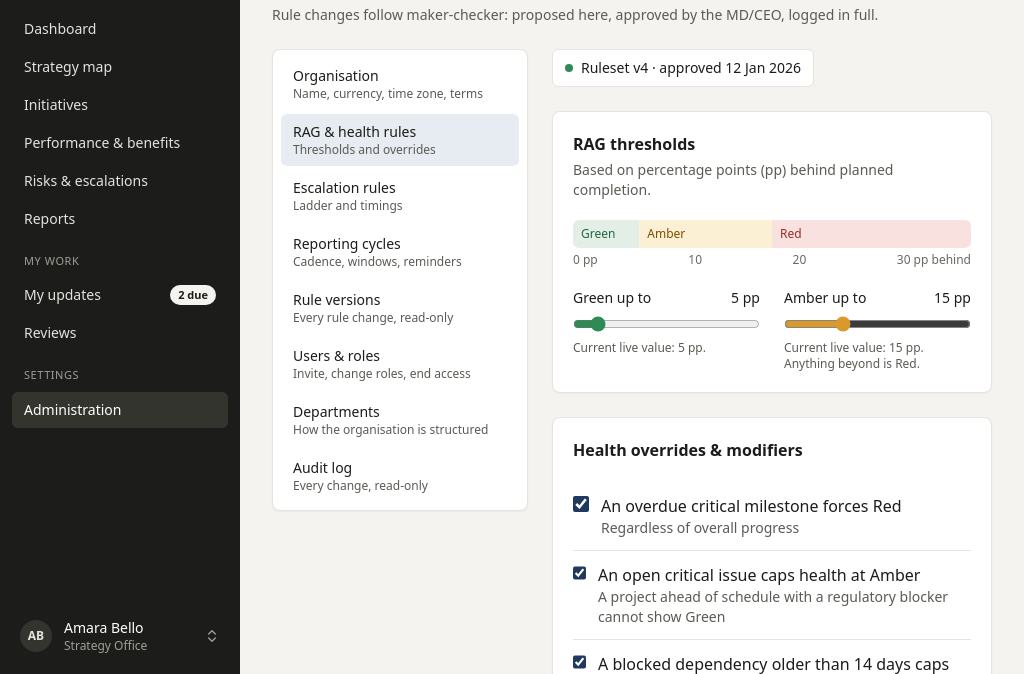
Scenario: Administration: rules › previews a change on today’s portfolio and proposes it for approval
This screenshot has width=1024, height=674.
Expected: the text "Ruleset v4 · approved 12 Jan 2026" is shown, [552, 49, 814, 87]
Set the slider labelled "Green up to 5 pp" to "10" at x=615, y=324, box [573, 316, 760, 332]
(page scrolled)
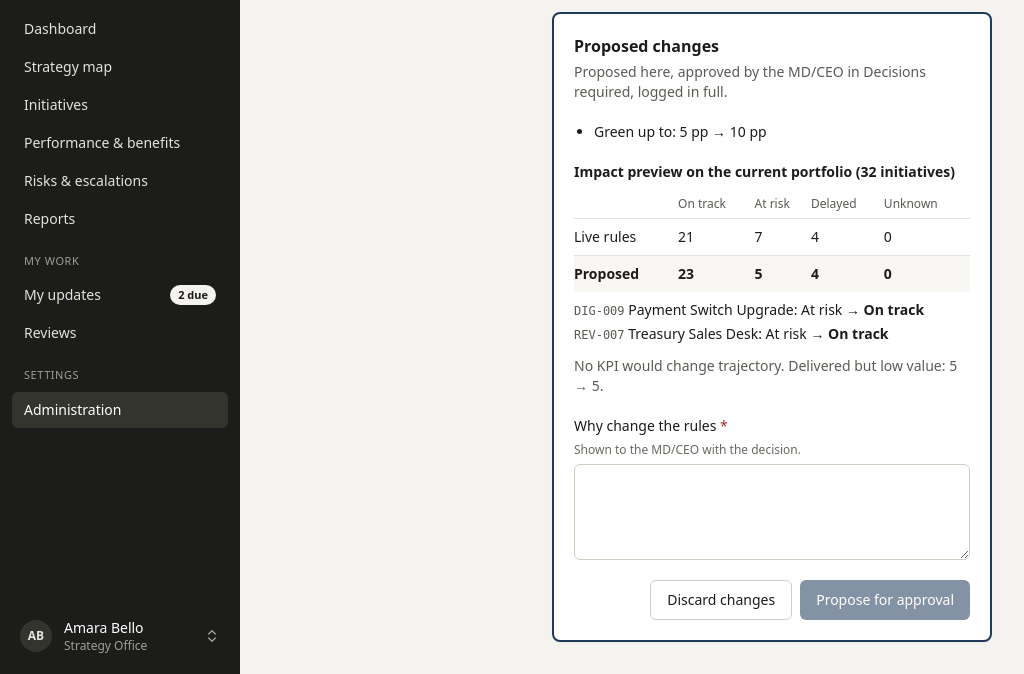
Expected: the list item "Green up to: 5 pp → 10 pp" is shown, [594, 122, 767, 141]
Expected: the row "Live rules 21 7 4 0" is shown, [574, 219, 970, 256]
Expected: the row "Proposed 23 5 4 0" is shown, [574, 256, 970, 292]
Type "Align Green with the FY2027 tolerance." into the text box labelled "Why change the rules *" at x=772, y=512, box [574, 464, 970, 560]
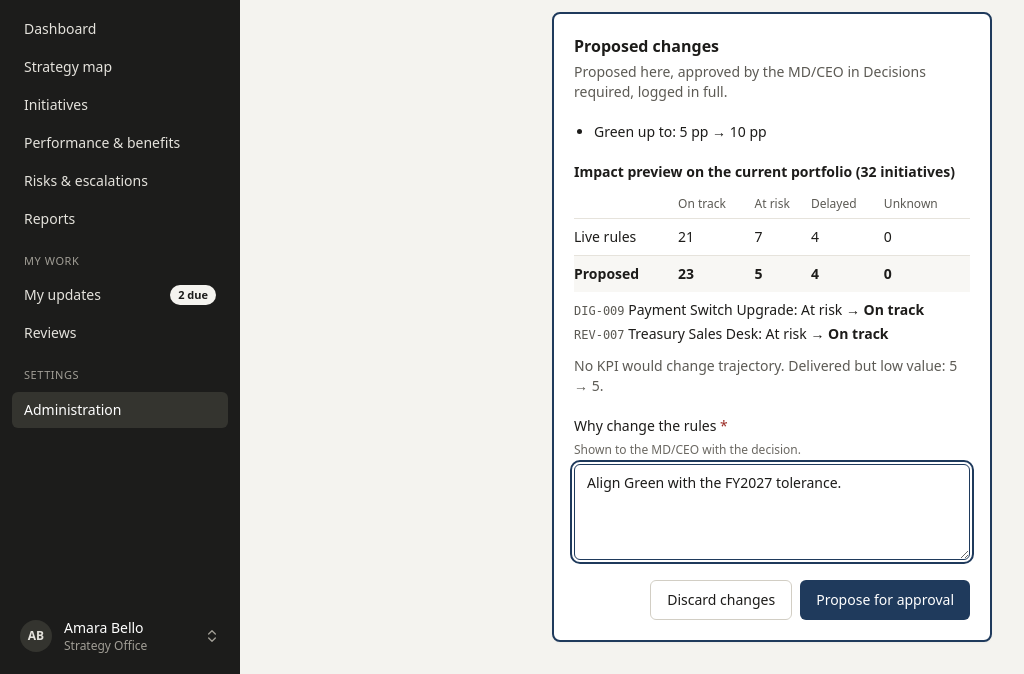
Click the button "Propose for approval" at x=885, y=600, box [800, 580, 970, 620]
(page scrolled)
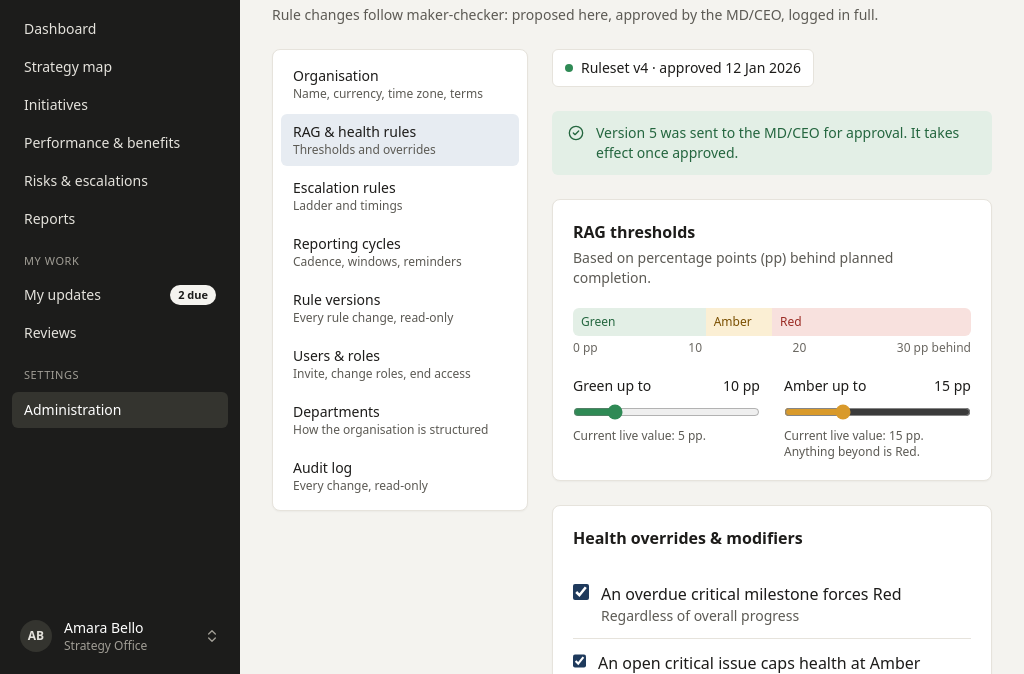
Expected: the text "Version 5 was sent to the MD/CEO for approval. It takes effect once approved." is shown, [596, 123, 976, 163]
